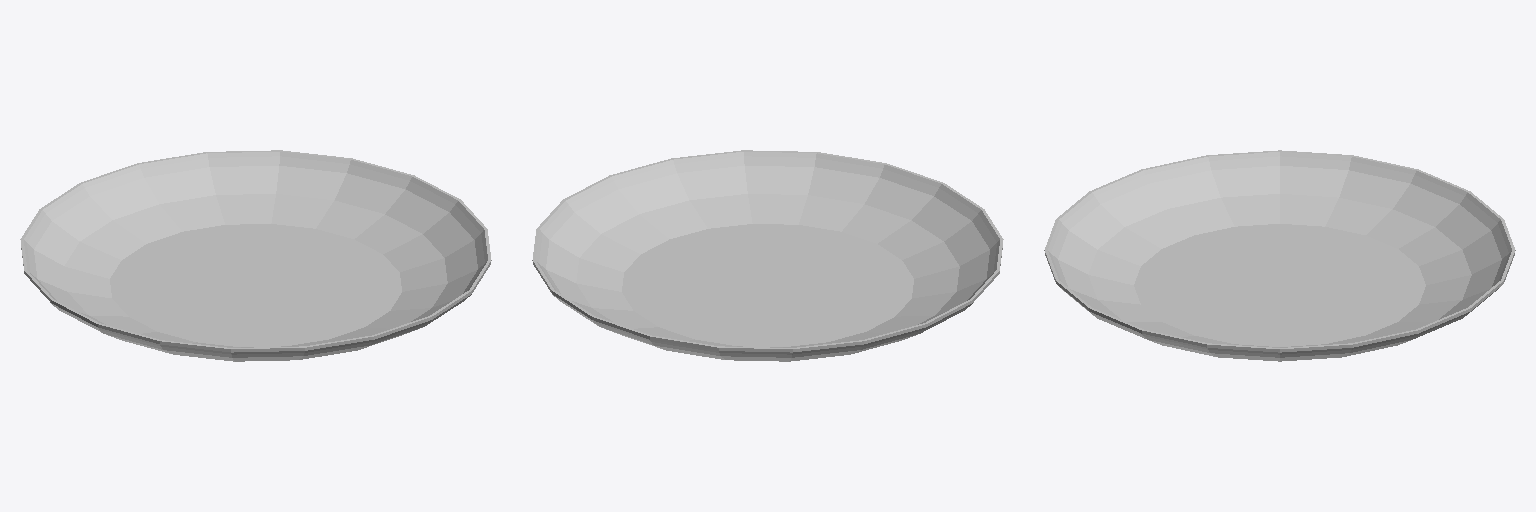
The robot description file, URDF, robot "plastic_plate":
<robot name="plastic_plate">
  <link name="plastic_plate">
    <collision>
      <geometry>
        <mesh filename="plastic_plate_collision.stl" />
      </geometry>
    </collision>
    <visual>
      <geometry>
        <mesh filename="plastic_plate_visual.dae" />
      </geometry>
    </visual>
  </link>
</robot>

--- Render facts (derived) ---
3 views of the same robot in one strip: view 1: azimuth 30°, elevation 25°; view 2: azimuth 150°, elevation 25°; view 3: azimuth 270°, elevation 25° (orthographic).
Robot: plastic_plate — 1 links, 0 joints (none); root link plastic_plate; default pose: every joint at zero.
Links seen in each view (by area): view 1: plastic_plate; view 2: plastic_plate; view 3: plastic_plate.
Link boxes in pixels (box(x1,y1,x2,y2)): plastic_plate: box(20, 150, 491, 361); plastic_plate: box(532, 150, 1003, 361); plastic_plate: box(1044, 150, 1515, 361).
Bounding box of the posed robot: 0.0026 × 0.0026 × 0.0003 m (x, y, z).
Meshes: 1 distinct files referenced, 1 mesh visuals loaded (1 Collada DAE).